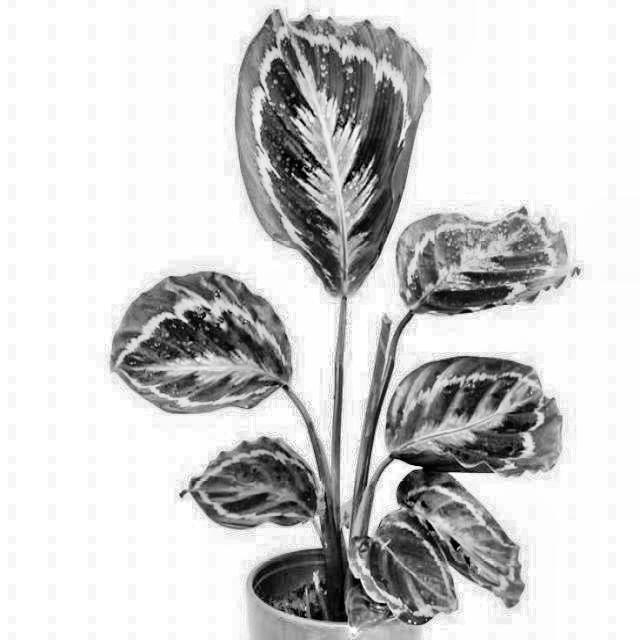plants: (88, 4, 587, 638)
